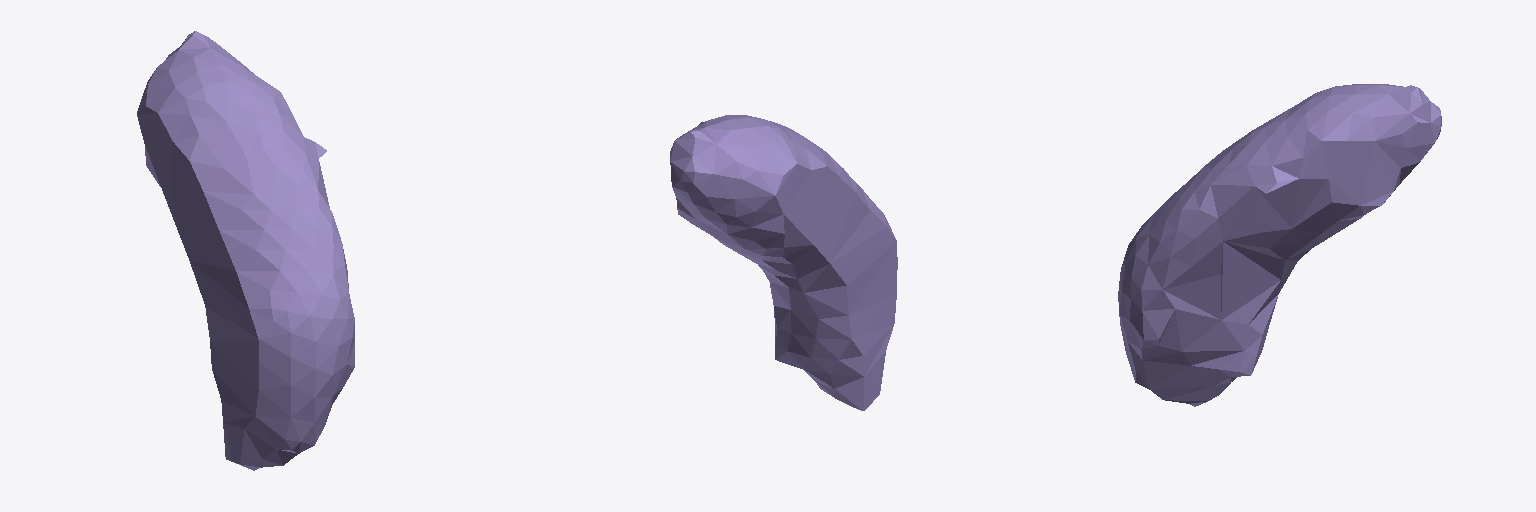
Rendered from Model_345_RH__Paraventricular_thalamic_nucleus_(PV).obj.
The picture shows the model from 3 angles: view 1: azimuth 30°, elevation 25°; view 2: azimuth 150°, elevation 25°; view 3: azimuth 270°, elevation 25°; orthographic projection.
Size of the model in its own units: 0.4768 by 1.21 by 1.03.